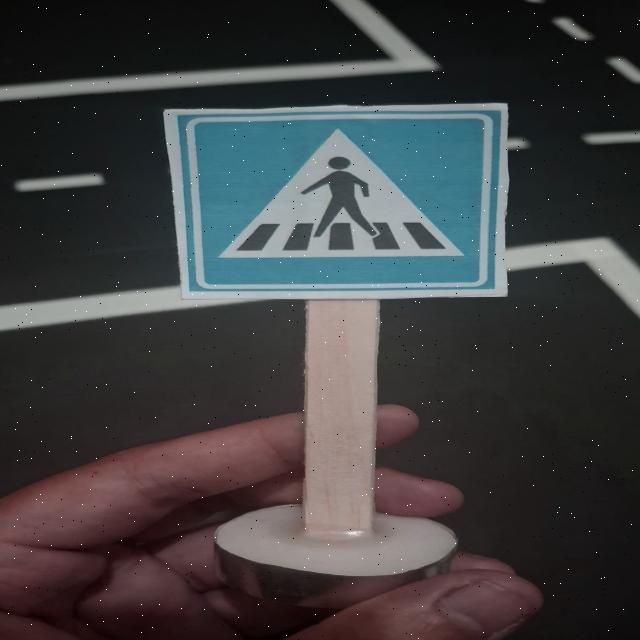Rambu Penyebrangan: (170, 109, 502, 293)
